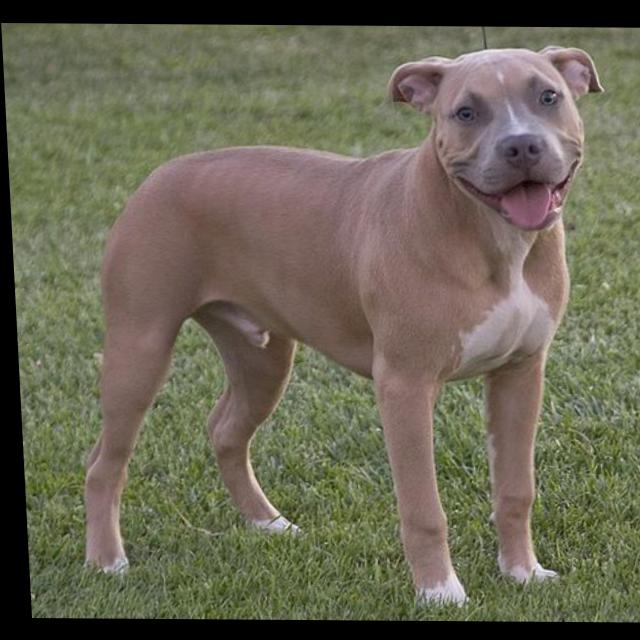amstaff: (57, 40, 628, 610)
